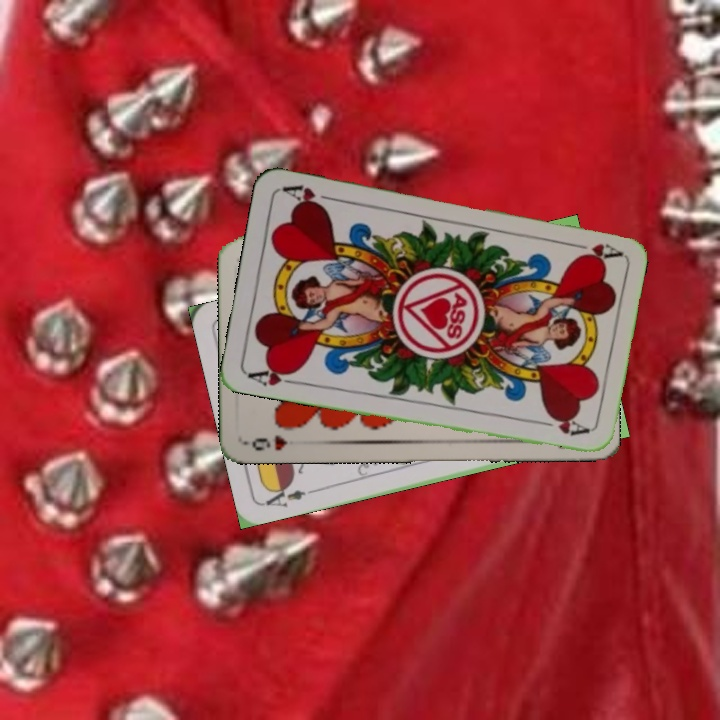EA: (262, 481, 308, 510)
H9: (248, 431, 290, 453)
HA: (244, 362, 304, 389), (563, 238, 622, 262)
